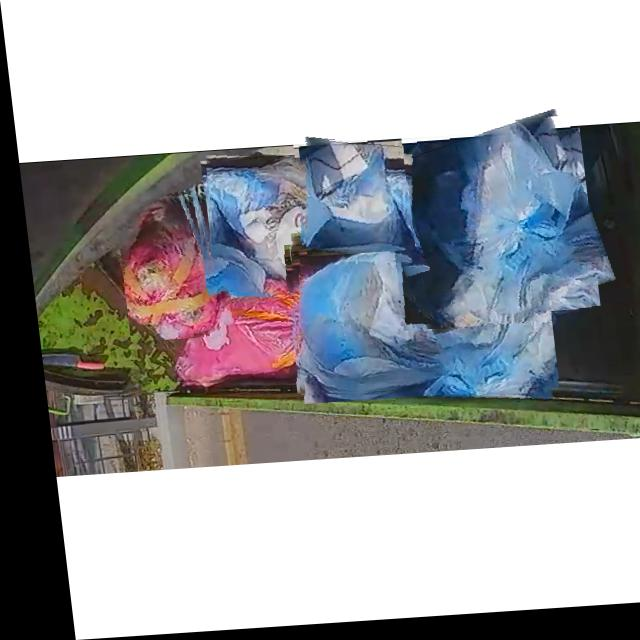other_trashbag: (380, 128, 571, 333), (287, 243, 542, 396), (203, 162, 333, 300), (117, 200, 209, 341), (167, 287, 290, 385), (300, 144, 407, 253)
